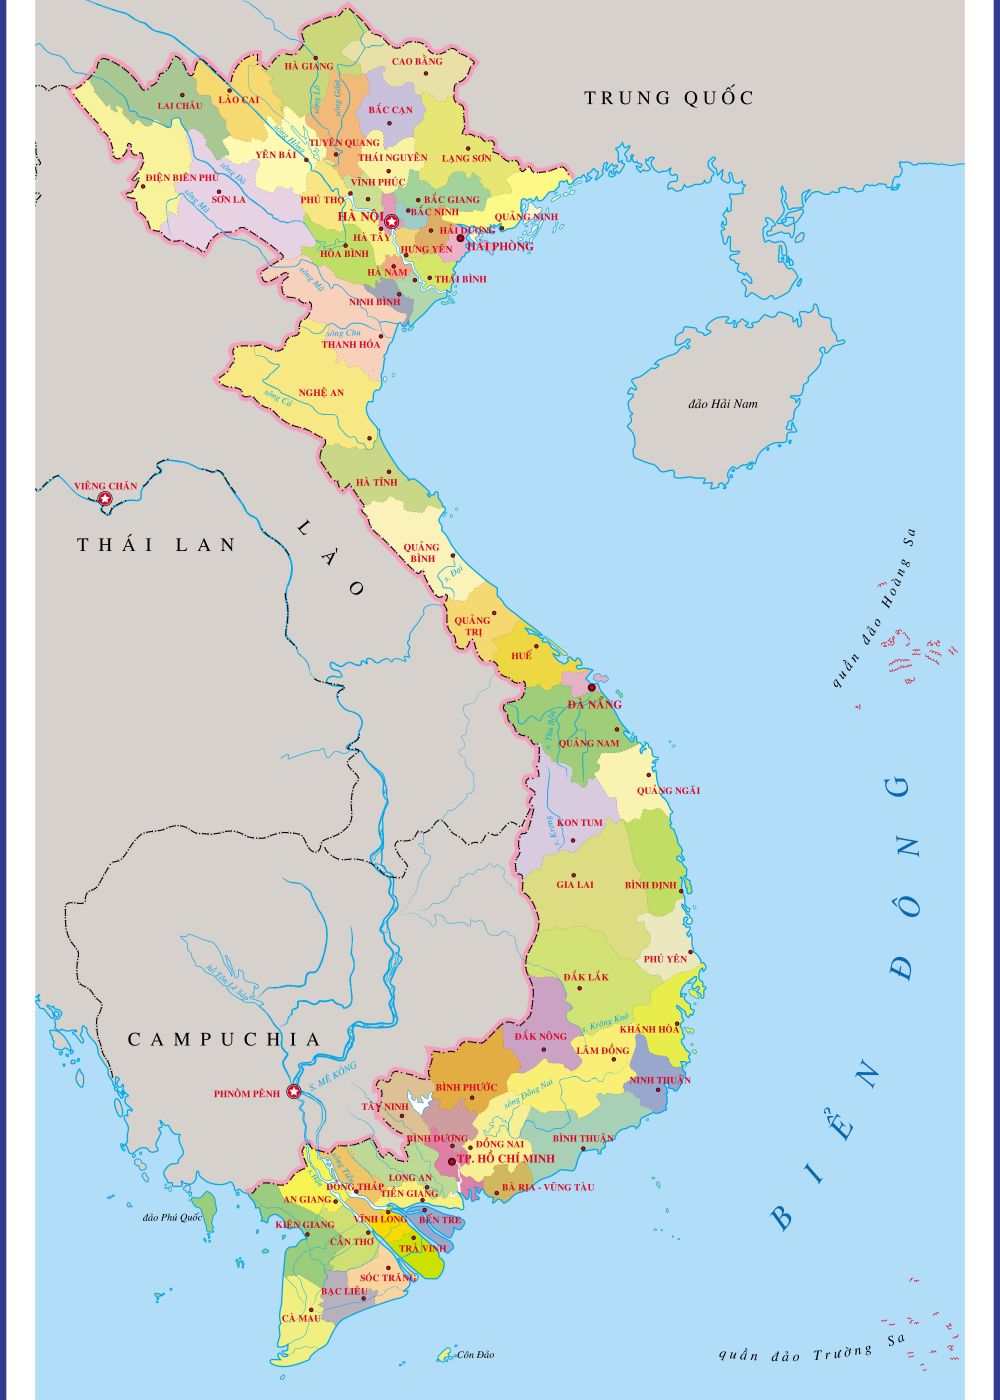Island: (708, 1267, 966, 1400), (827, 516, 962, 714)
